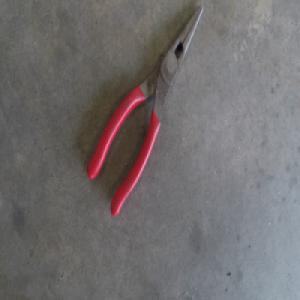Pliers: (87, 7, 201, 214)
